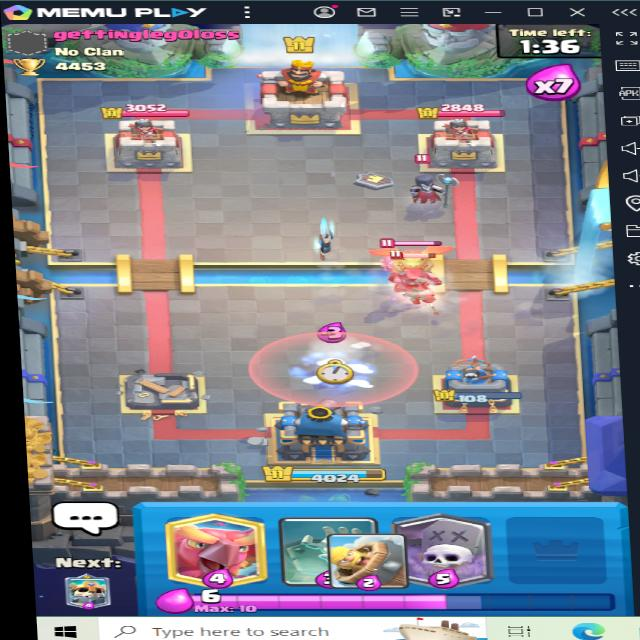baby-dragon: (375, 243, 438, 281)
dark-prince: (389, 251, 460, 308)
night-witch: (402, 157, 451, 209)
